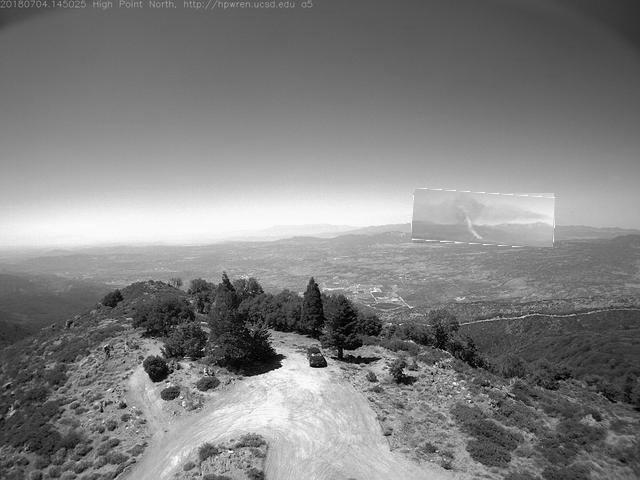smoke: (413, 192, 557, 247)
